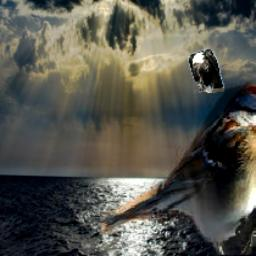Crow: (188, 47, 224, 93)
Sparrow: (99, 83, 256, 256)
